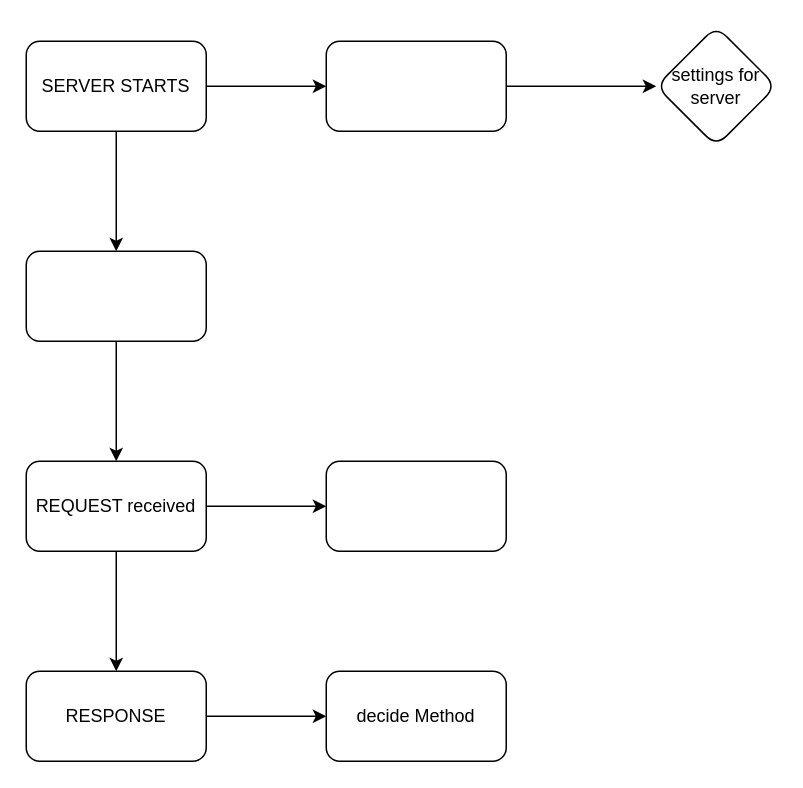
This 803x788 diagram has some shape labels left out. The shapes that lost their labels are listed below. From the top down, each one's centre as x and y in pixels, then its label:
pixel 415 85: CONFIGURATION FILE
pixel 115 295: SOCKET creation
pixel 415 505: PARSING request
